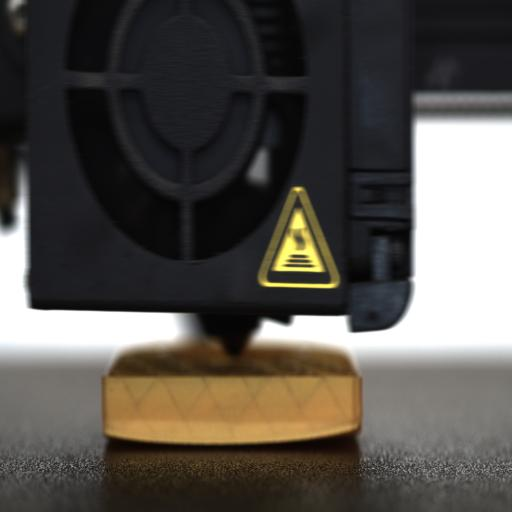warp: (306, 415, 367, 451), (99, 417, 153, 451)
